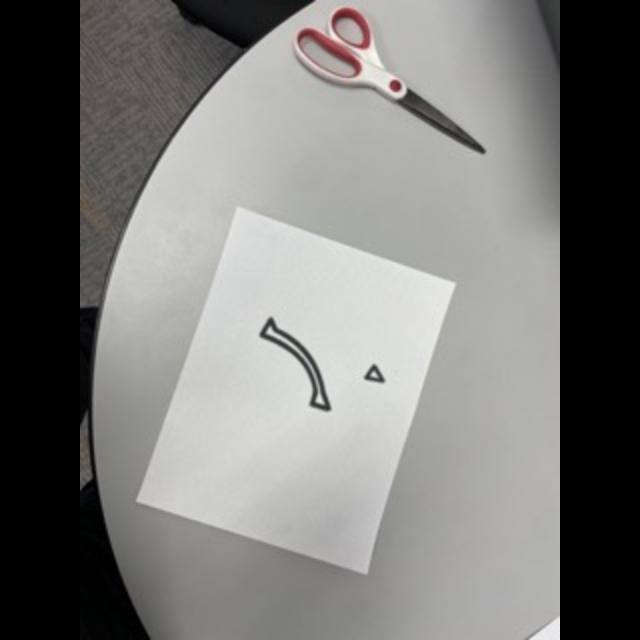earth4: (248, 298, 402, 422)
